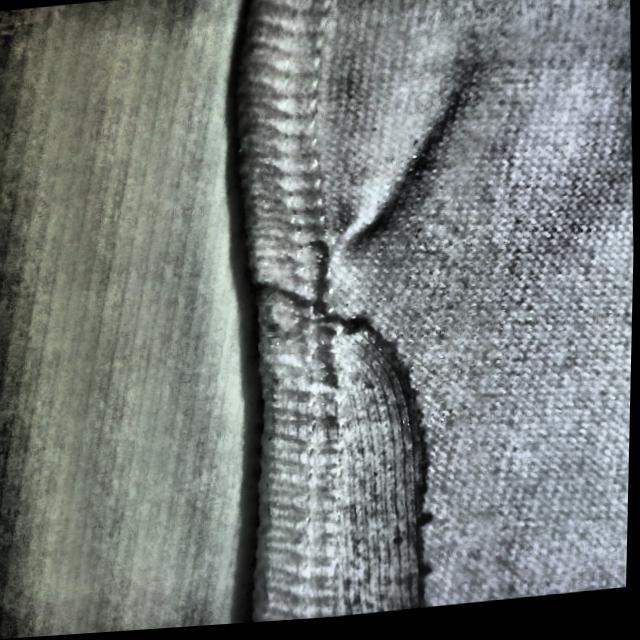seam: (240, 312, 509, 627)
